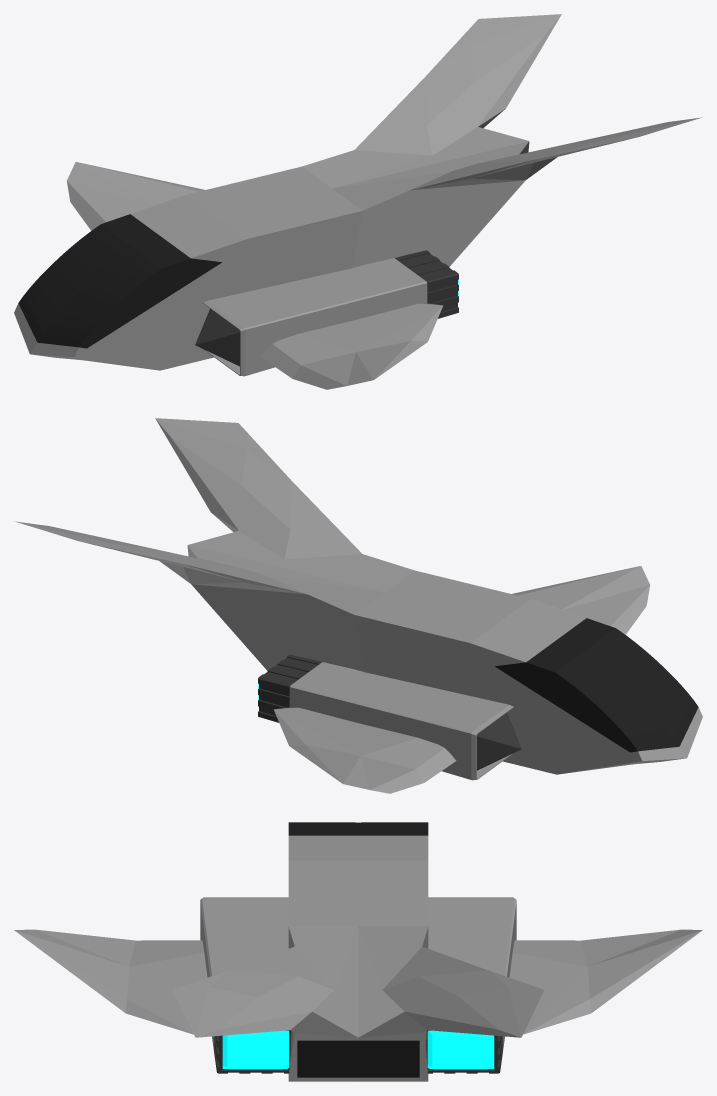
Rendered from Ship.fbx.
3 views of the same model, one above another, from view 1: azimuth 30°, elevation 25°; view 2: azimuth 150°, elevation 25°; view 3: azimuth 270°, elevation 25° (orthographic). The views are drawn at different scales.
Visible parts, largest first — view 1: Plane; view 2: Plane; view 3: Plane.
Boxes of the visible parts, left/top/right/bottom form: Plane: left=14, top=14, right=702, bottom=389; Plane: left=14, top=418, right=702, bottom=793; Plane: left=14, top=822, right=702, bottom=1081.
Bounding box in the file's own units: 1039 × 273 × 891.
